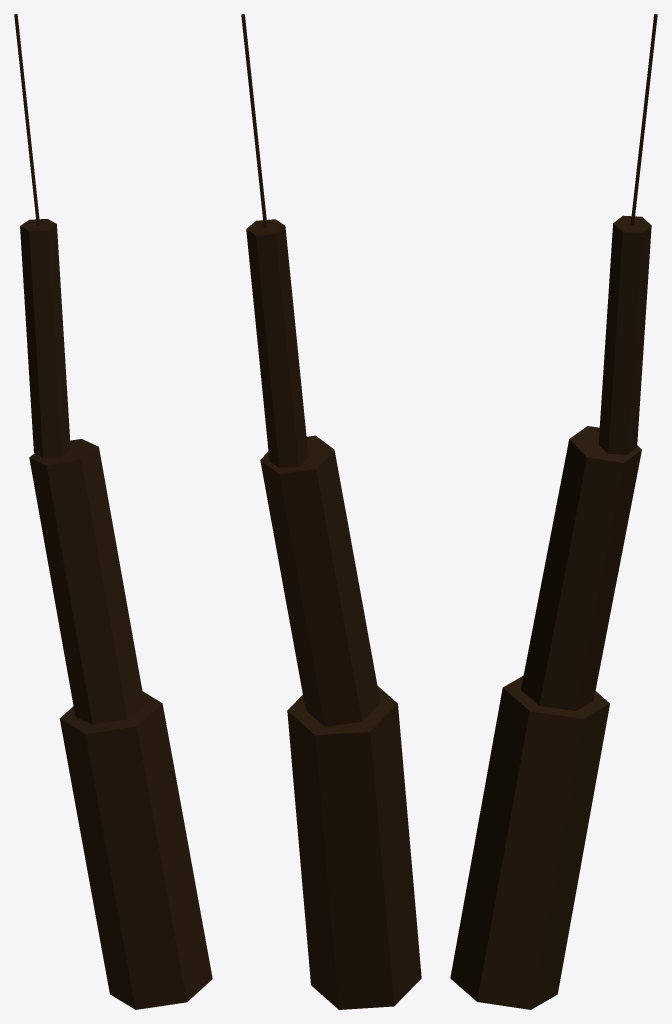
The model's file is 2022_tree_536_no_leaf.obj.
3 views of the same model, side by side, from view 1: azimuth 90°, elevation 25°; view 2: azimuth 150°, elevation 25°; view 3: azimuth 270°, elevation 25° (orthographic). The views are drawn at different scales.
Visible parts, largest first — view 1: TrunkAndBranches; view 2: TrunkAndBranches; view 3: TrunkAndBranches.
Part boxes in pixels (left/top/right/bottom): TrunkAndBranches: left=14, top=14, right=212, bottom=1009; TrunkAndBranches: left=241, top=14, right=421, bottom=1009; TrunkAndBranches: left=450, top=14, right=657, bottom=1009.
Bounding box in the file's own units: 0.1491 × 1.54 × 0.2888.
